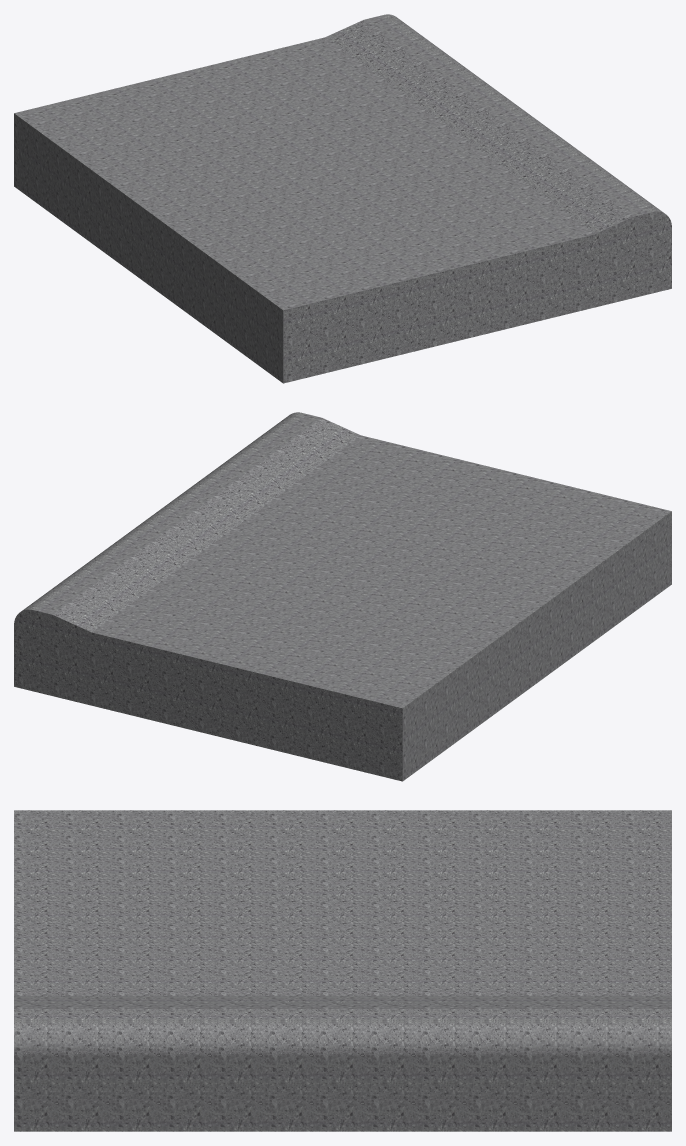
Rendered from pavement.gltf.
3 views of the same model, one above another, from view 1: azimuth 30°, elevation 25°; view 2: azimuth 150°, elevation 25°; view 3: azimuth 270°, elevation 25° (orthographic). The views are drawn at different scales.
Parts seen in each view (by area): view 1: Cube; view 2: Cube; view 3: Cube.
Part boxes in pixels (x1,y1,x2,y2): Cube: (14, 14, 671, 383); Cube: (14, 412, 671, 781); Cube: (14, 810, 671, 1131).
Bounding box in the file's own units: 50 × 10 × 60.
1 material, 1 textured.
